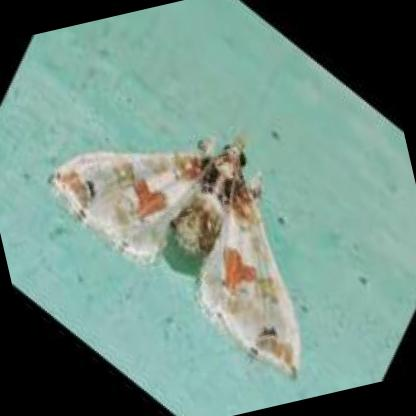leucinodes: (48, 128, 300, 379)
